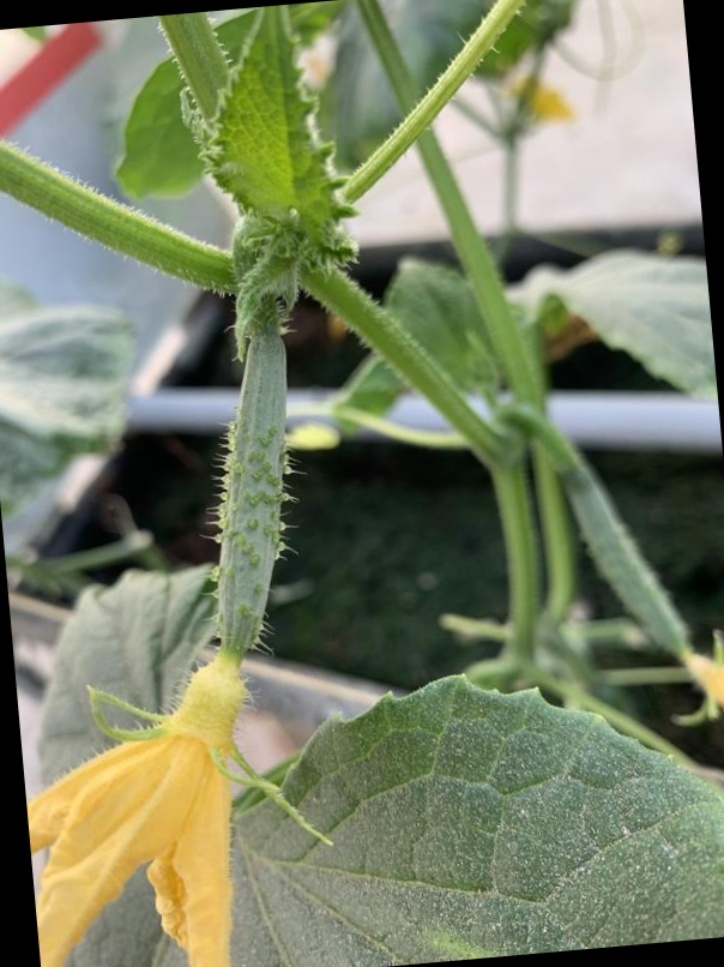bear: (0, 286, 341, 949)
